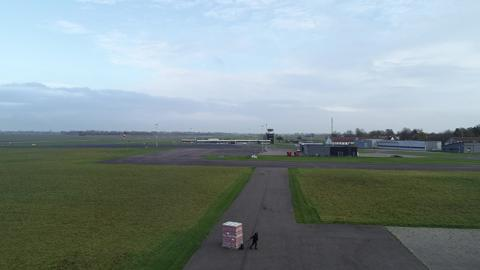RockwoolPallet: (221, 221, 245, 248)
